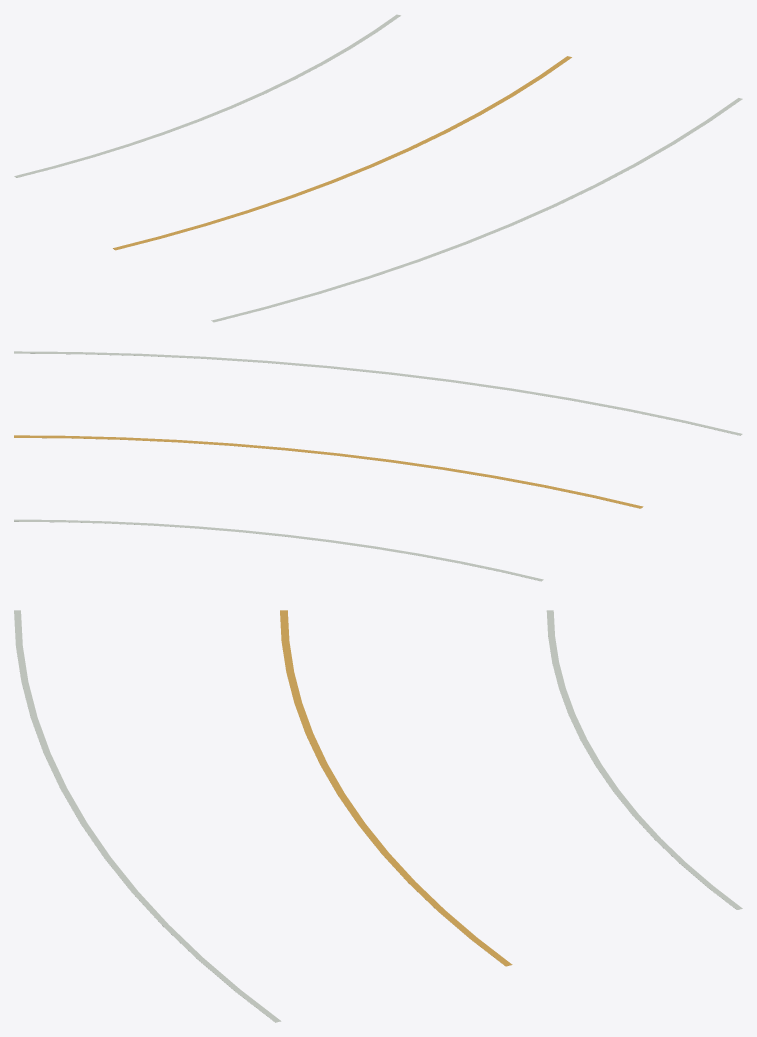
Rendered from paint.gltf.
3 renders of one model, top to bottom at view 1: azimuth 30°, elevation 25°; view 2: azimuth 150°, elevation 25°; view 3: azimuth 270°, elevation 25°, orthographic. The views are drawn at different scales.
Parts seen in each view (by area): view 1: RoadPlan_CurveMarking_2L_A30_R18_EdgeRight, RoadPlan_CurveMarking_2L_A30_R18_Center, RoadPlan_CurveMarking_2L_A30_R18_EdgeLeft; view 2: RoadPlan_CurveMarking_2L_A30_R18_EdgeRight, RoadPlan_CurveMarking_2L_A30_R18_Center, RoadPlan_CurveMarking_2L_A30_R18_EdgeLeft; view 3: RoadPlan_CurveMarking_2L_A30_R18_EdgeRight, RoadPlan_CurveMarking_2L_A30_R18_Center, RoadPlan_CurveMarking_2L_A30_R18_EdgeLeft.
Part boxes in pixels (<box>): RoadPlan_CurveMarking_2L_A30_R18_EdgeRight: <box>211,98,742,322</box>; RoadPlan_CurveMarking_2L_A30_R18_Center: <box>113,56,571,250</box>; RoadPlan_CurveMarking_2L_A30_R18_EdgeLeft: <box>14,14,400,177</box>; RoadPlan_CurveMarking_2L_A30_R18_EdgeRight: <box>14,351,742,435</box>; RoadPlan_CurveMarking_2L_A30_R18_Center: <box>14,435,643,508</box>; RoadPlan_CurveMarking_2L_A30_R18_EdgeLeft: <box>14,519,543,581</box>; RoadPlan_CurveMarking_2L_A30_R18_EdgeRight: <box>14,610,281,1022</box>; RoadPlan_CurveMarking_2L_A30_R18_Center: <box>280,610,512,966</box>; RoadPlan_CurveMarking_2L_A30_R18_EdgeLeft: <box>546,610,742,909</box>.
Size of the model in its own units: 10.44 by 0.0007 by 7.8.
